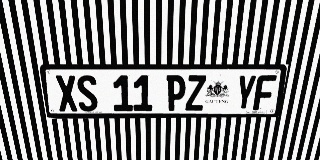1: (112, 75, 133, 111), (132, 75, 152, 111)
F: (253, 75, 277, 110)
P: (166, 75, 186, 111)
S: (76, 75, 99, 111)
X: (55, 75, 79, 112)
Y: (234, 75, 257, 110)
Z: (185, 75, 206, 111)
